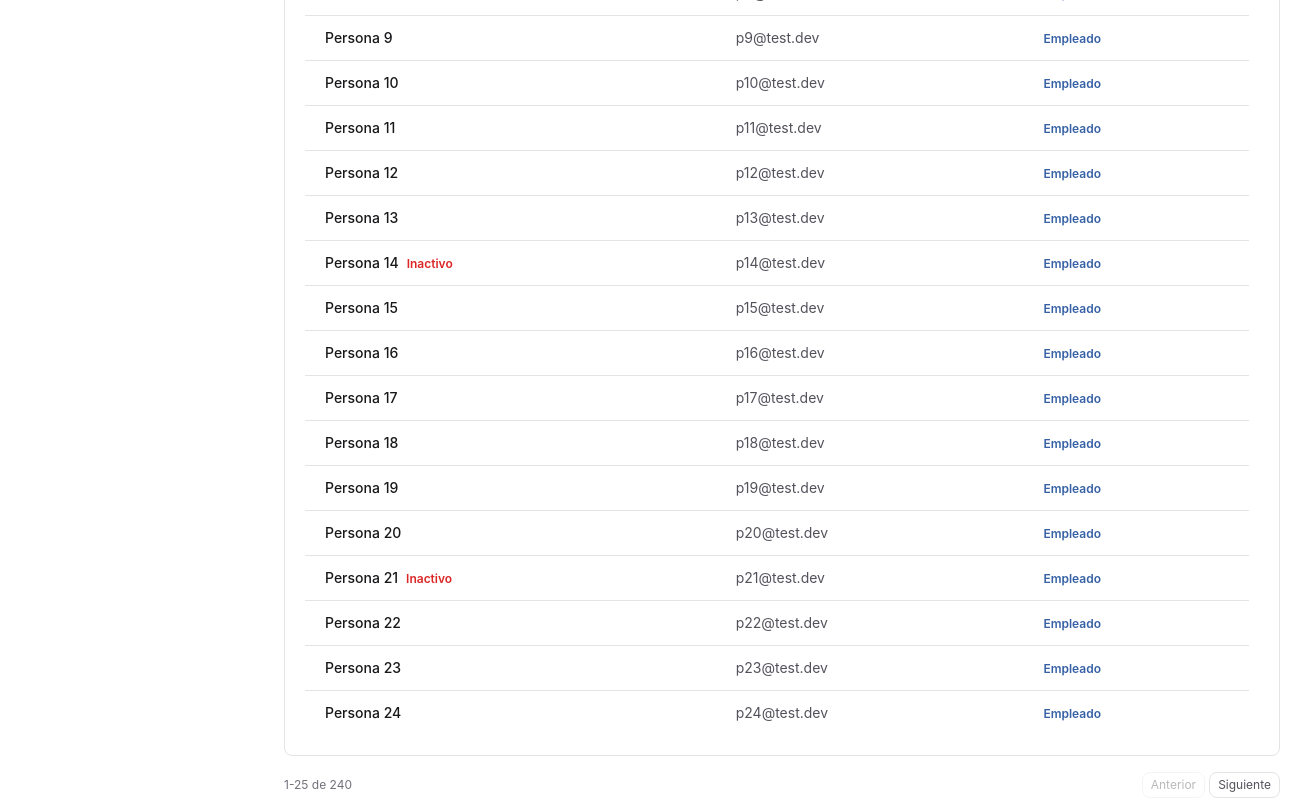
Scenario: Employees at scale › pages forward and back through the whole organization
(page scrolled)
Click the button "Siguiente". click: (1245, 785)
box: [1209, 772, 1280, 797]
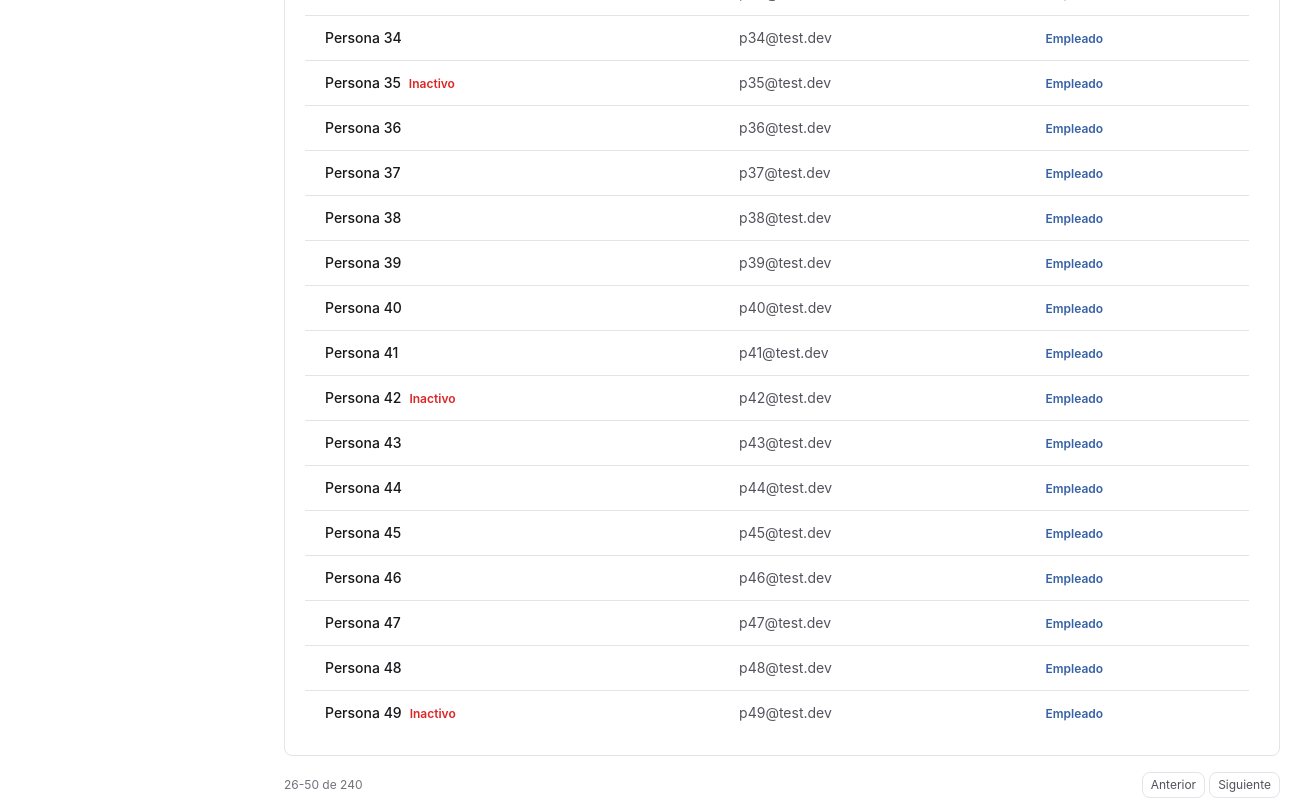
Click the button "Anterior". click: (1173, 785)
box: [1142, 772, 1205, 797]
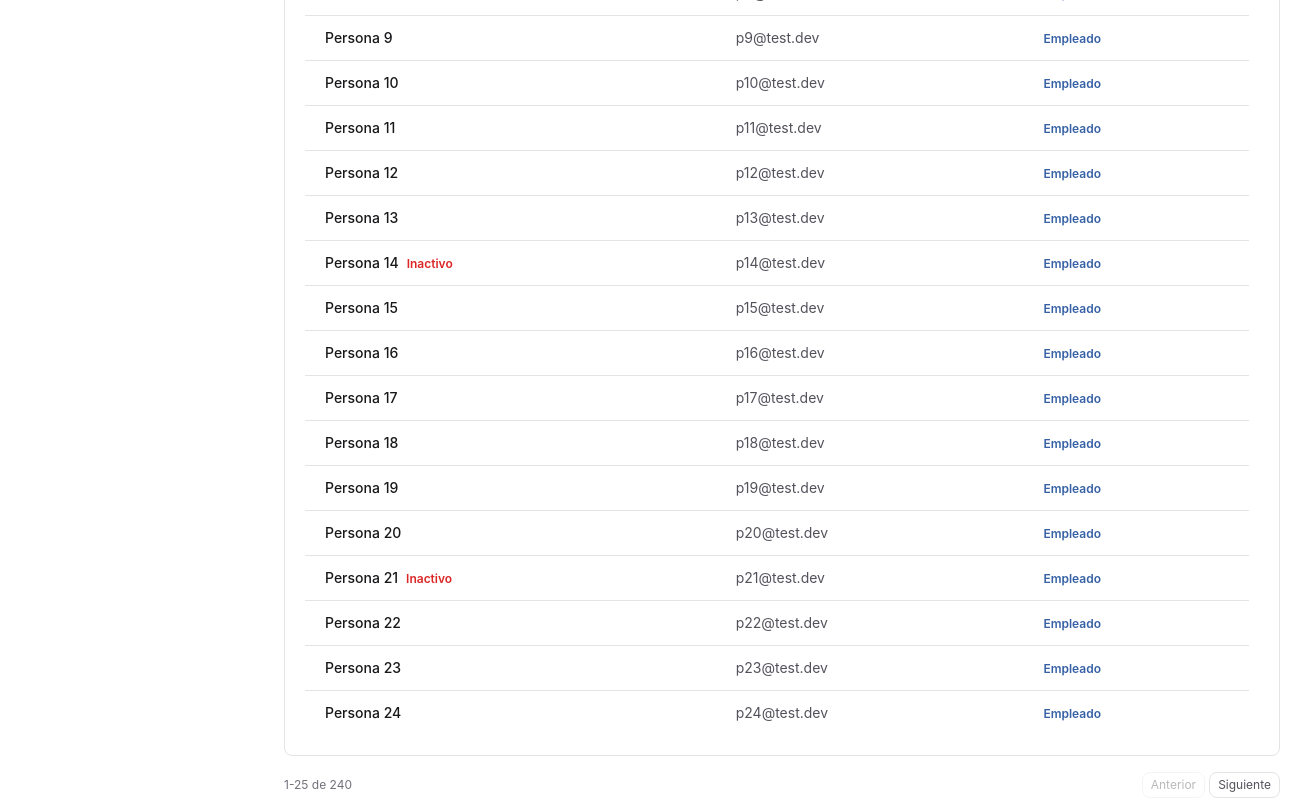
Now the text "1-25 de 240" is shown, box [284, 777, 352, 793]
